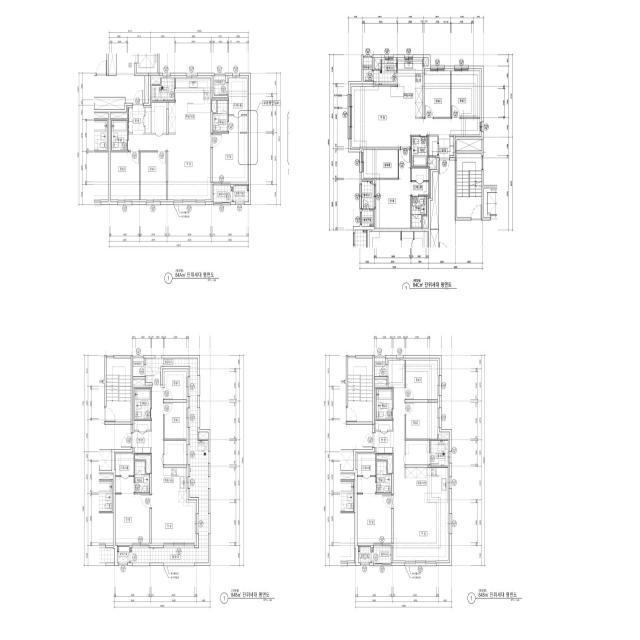space_balconi: (130, 358, 208, 563), (374, 60, 397, 85), (152, 78, 174, 101), (430, 441, 448, 466), (213, 185, 233, 202), (362, 181, 374, 209), (372, 546, 391, 563)
space_bedroom: (376, 150, 410, 228), (357, 494, 391, 543), (116, 494, 150, 543), (213, 133, 247, 182), (111, 152, 139, 200), (451, 71, 480, 117), (406, 360, 438, 400), (140, 152, 166, 200), (406, 403, 438, 439), (425, 71, 450, 117), (164, 403, 186, 439), (164, 371, 186, 400)
space_dressroom: (229, 78, 247, 132), (357, 454, 376, 493), (115, 454, 134, 493), (411, 168, 429, 195)
space_front: (128, 105, 144, 133), (132, 432, 152, 454), (374, 432, 393, 454), (439, 135, 454, 158)
space_kitchen: (168, 78, 211, 133), (405, 468, 448, 503), (398, 60, 423, 117), (163, 468, 186, 503)
space_living_room: (389, 360, 448, 561), (352, 87, 480, 147), (152, 387, 195, 543), (128, 133, 211, 200)
space_multipurpose_space: (364, 150, 398, 178)
space_other: (406, 441, 429, 465), (164, 440, 186, 465), (430, 172, 439, 229), (152, 102, 166, 133), (457, 139, 482, 151), (135, 455, 151, 473), (377, 455, 392, 473), (214, 76, 227, 95), (375, 358, 387, 376), (363, 58, 372, 81), (133, 358, 144, 376), (134, 420, 151, 430), (376, 420, 392, 430), (429, 136, 437, 156), (145, 108, 151, 133), (145, 76, 149, 103), (428, 157, 436, 168), (111, 114, 127, 119), (375, 379, 387, 385), (133, 379, 145, 385), (199, 432, 208, 439), (212, 100, 217, 112), (375, 60, 381, 69), (152, 78, 160, 84), (423, 216, 427, 228), (439, 434, 448, 439), (424, 59, 427, 66)
space_outdoor_room: (234, 186, 249, 202), (358, 547, 371, 563), (117, 547, 129, 563), (362, 210, 373, 227)
space_staircase: (106, 358, 131, 422), (457, 154, 482, 217), (348, 358, 372, 422)
space_toilet: (135, 389, 151, 419), (376, 389, 392, 419), (135, 461, 150, 493), (213, 100, 228, 132), (112, 120, 127, 151), (412, 136, 427, 167), (411, 197, 426, 228), (377, 461, 391, 493)
